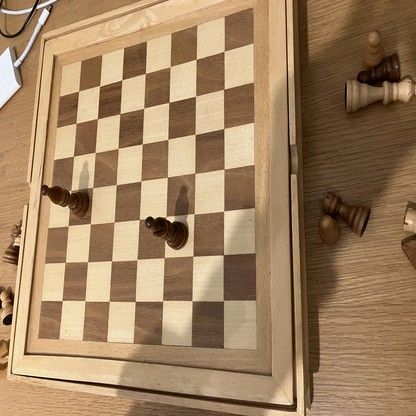bishop_black: (41, 186, 89, 215), (146, 217, 188, 249)
pawn_black: (357, 55, 400, 82)
pawn_white: (319, 217, 340, 245), (366, 31, 382, 64), (1, 292, 13, 326)
rock_black: (325, 194, 370, 237), (4, 224, 20, 261)
